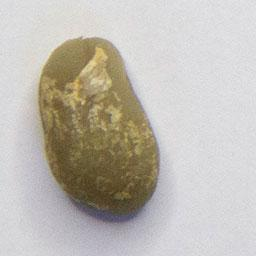premium: (33, 33, 161, 218)
